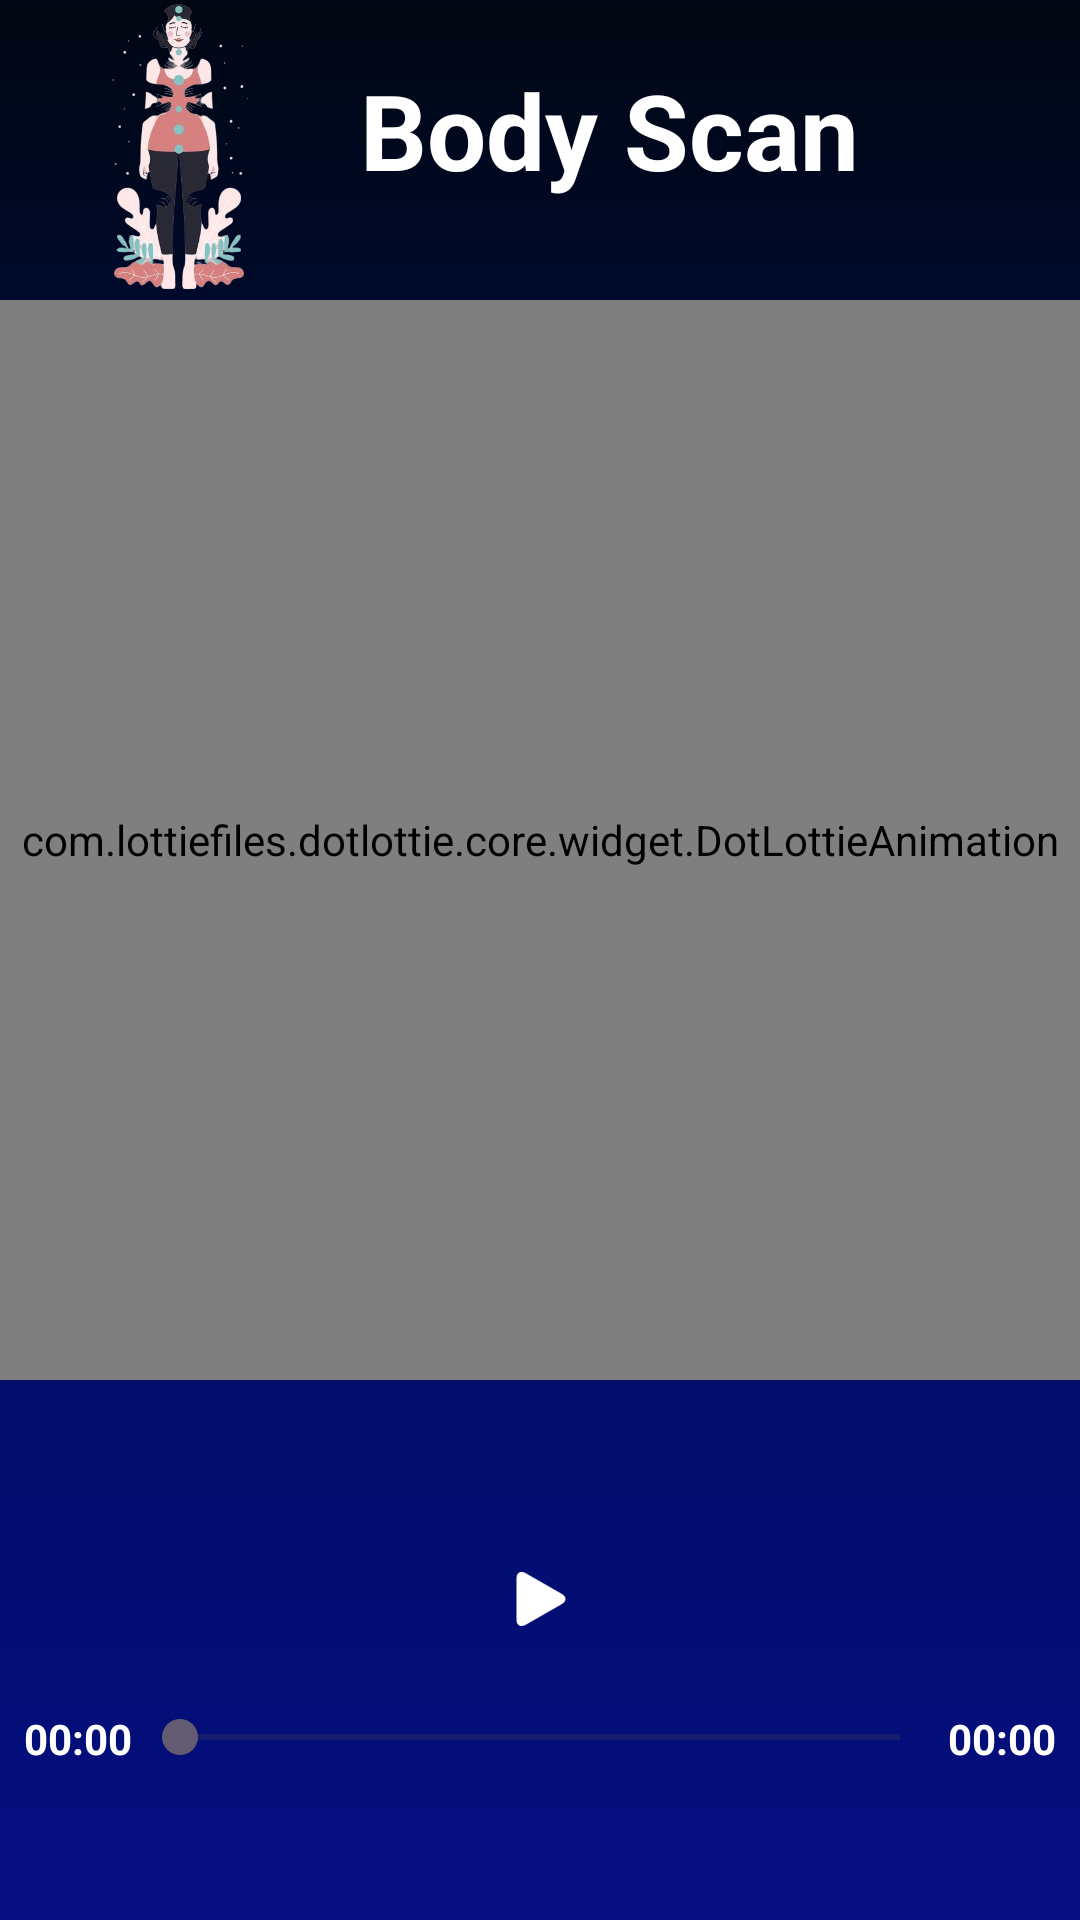

Locate icon controls on the screen. Image size 1080w x 1920h, boxes as region(x1, y1, x2, y2).
play: region(516, 1572, 566, 1626)
